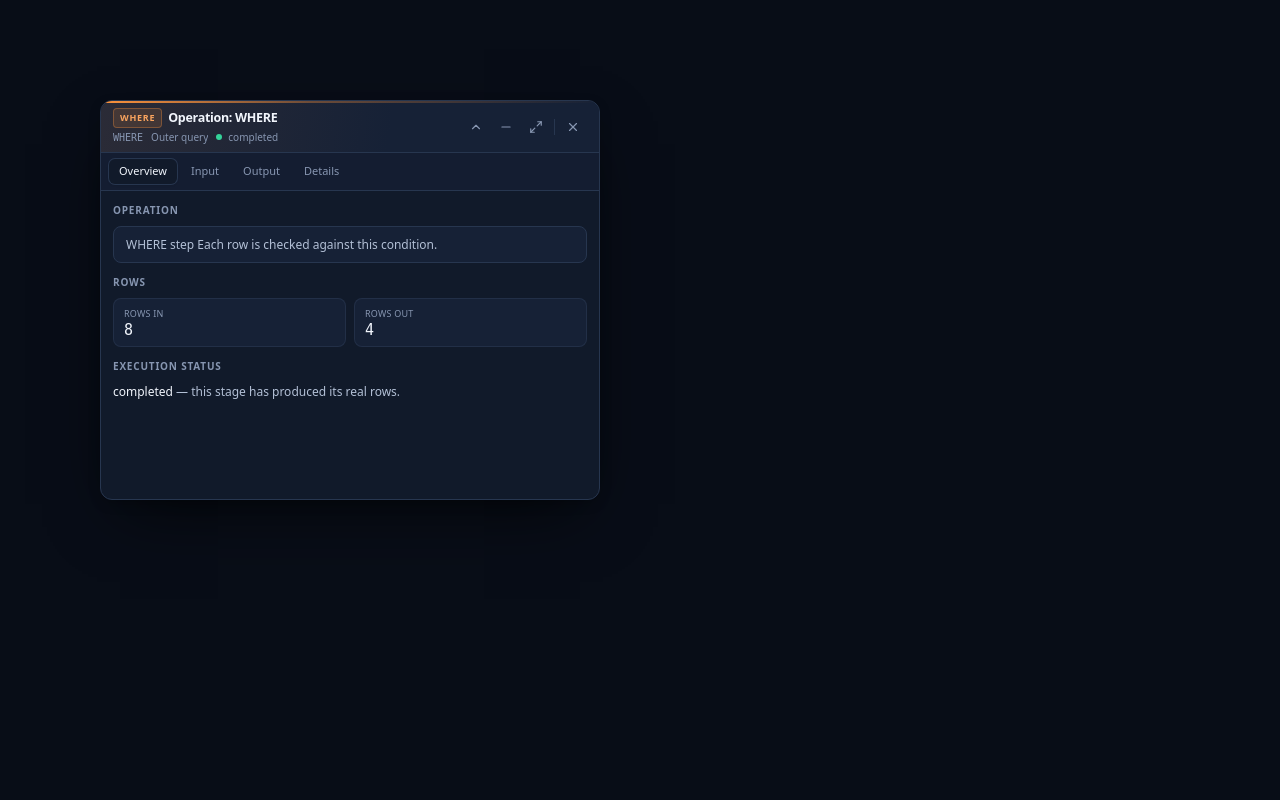
Scenario: FloatingNodeInspector › collapses to a real header-only window and expands to the previous size
What coordinates should you click on to do the following:
click the button named "Collapse node inspector"
I would click on:
 (476, 126)
Its box is left=462, top=112, right=490, bottom=140.
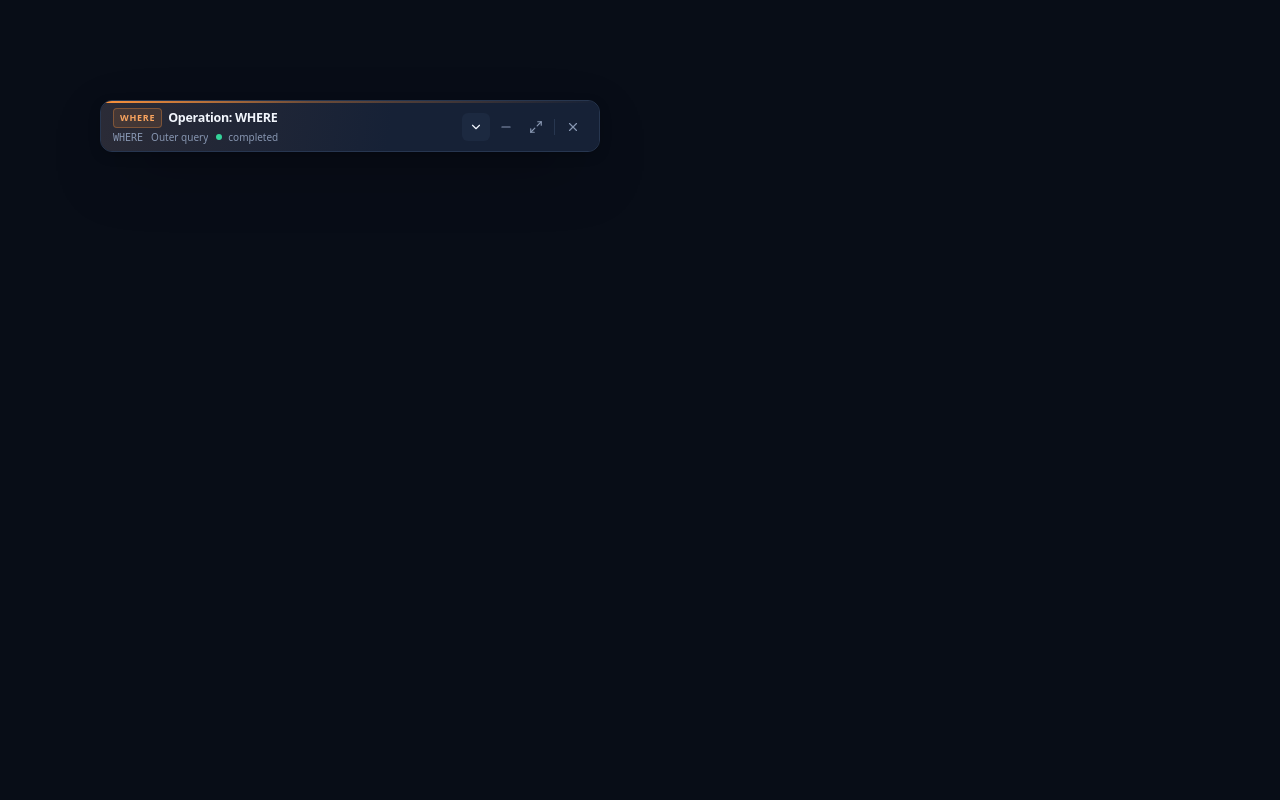
Expected: the header with test id "node-inspector-header" is shown, left=101, top=101, right=599, bottom=152
Now the button named "Expand node inspector" is shown
What coordinates should you click on to do the following:
click the button named "Expand node inspector"
I would click on:
 (476, 126)
Its box is left=462, top=112, right=490, bottom=140.
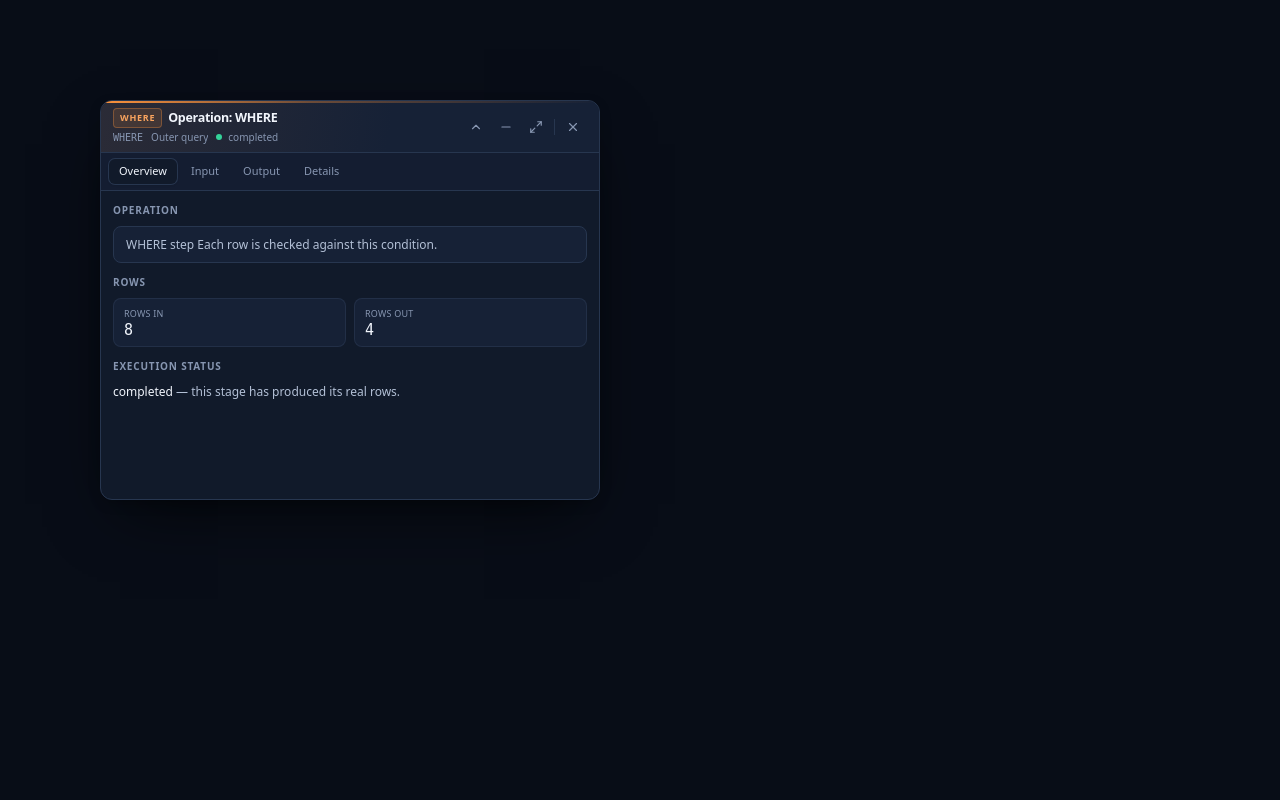
Now the panel is shown, box left=101, top=190, right=599, bottom=499
